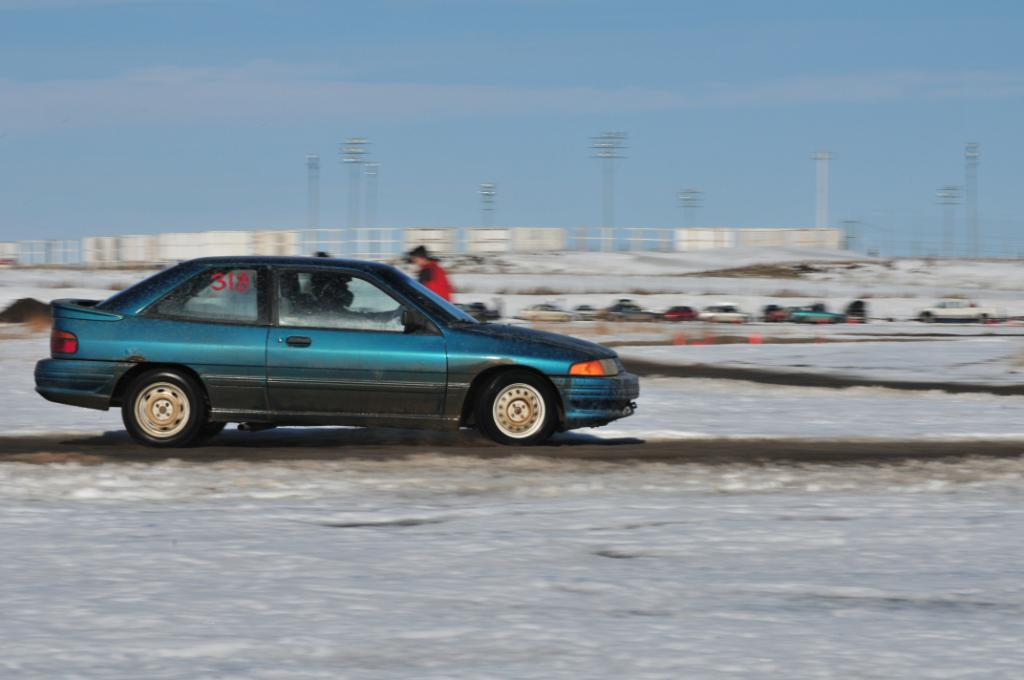Car: (32, 252, 643, 446), (512, 291, 994, 328)
